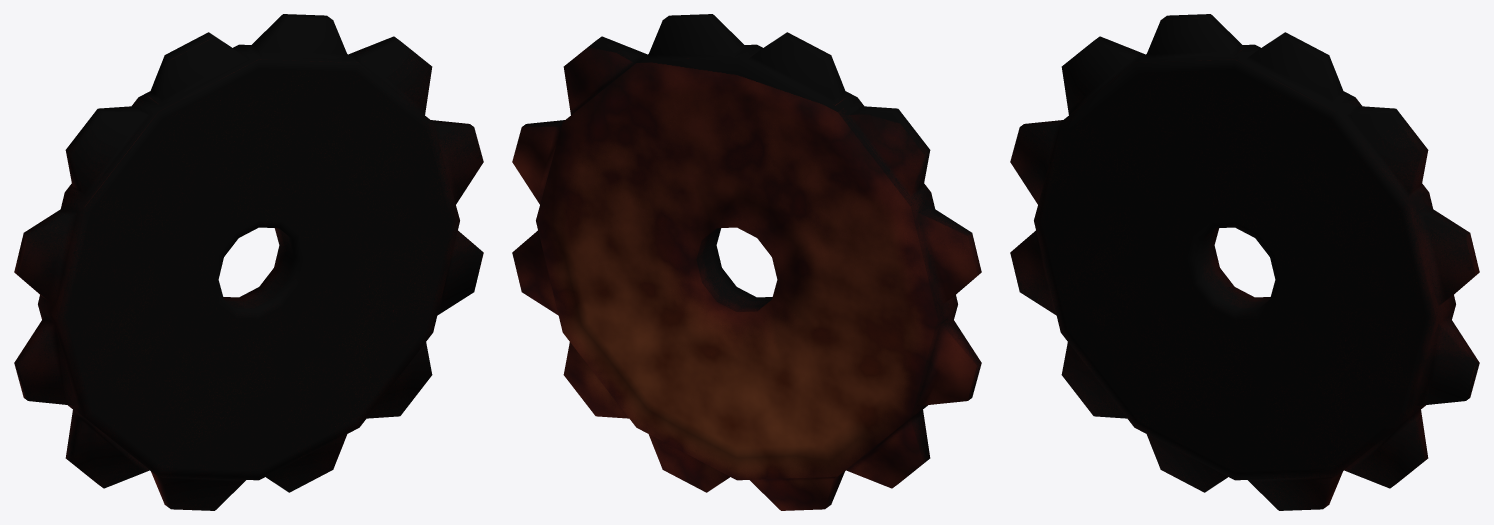
The model's file is Rouage.fbx.
3 views of the same model, side by side, from view 1: azimuth 30°, elevation 25°; view 2: azimuth 150°, elevation 25°; view 3: azimuth 330°, elevation 25° (orthographic).
Parts seen in each view (by area): view 1: Rouage; view 2: Rouage; view 3: Rouage.
Part boxes in pixels (left/top/right/bottom): Rouage: left=14, top=14, right=483, bottom=510; Rouage: left=512, top=14, right=981, bottom=510; Rouage: left=1010, top=14, right=1479, bottom=510.
Bounding box in the file's own units: 62.41 × 60.78 × 4.66.
1 material, 1 textured.
